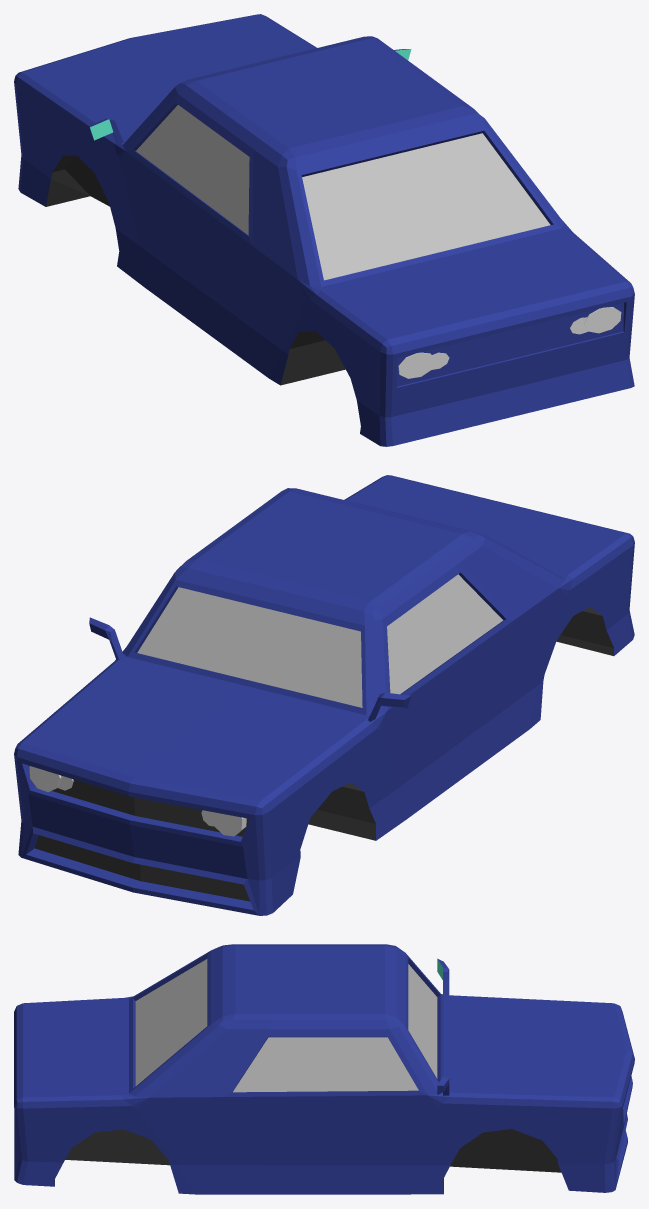
File: AIcar1.fbx
3 views of the same model, one above another, from view 1: azimuth 30°, elevation 25°; view 2: azimuth 150°, elevation 25°; view 3: azimuth 270°, elevation 25° (orthographic). The views are drawn at different scales.
Visible parts, largest first — view 1: AIcar1; view 2: AIcar1; view 3: AIcar1.
Part boxes in pixels (box(x1,y1,x2,y2)): AIcar1: box(14, 14, 634, 446); AIcar1: box(14, 475, 634, 915); AIcar1: box(14, 944, 634, 1194).
Size of the model in its own units: 4.37 by 2.62 by 9.03.
